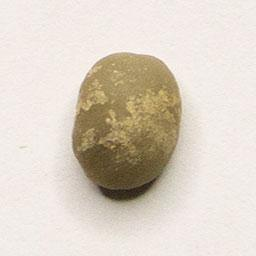peaberry: (67, 48, 187, 194)
